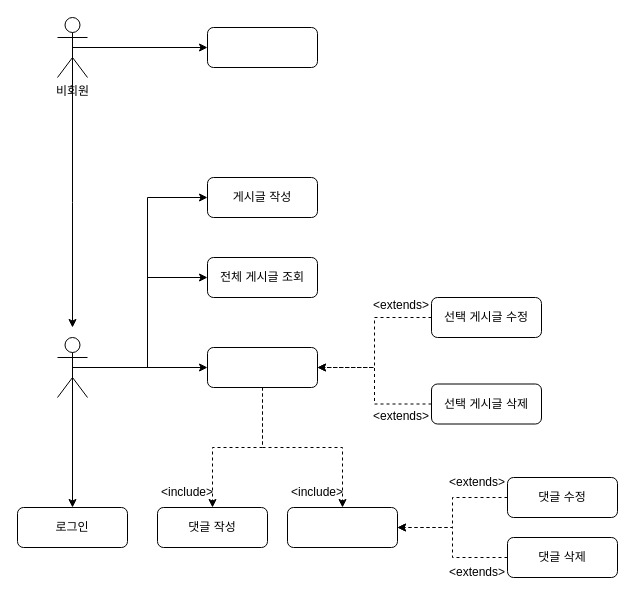
This 635x605 diagram has some shape labels left out. Each missing label, with the centre of its shape:
"댓글 조회" goes at [342,527].
"선택 게시글 조회" goes at [262,367].
"회원" goes at [72,367].
"회원가입" goes at [262,47].
